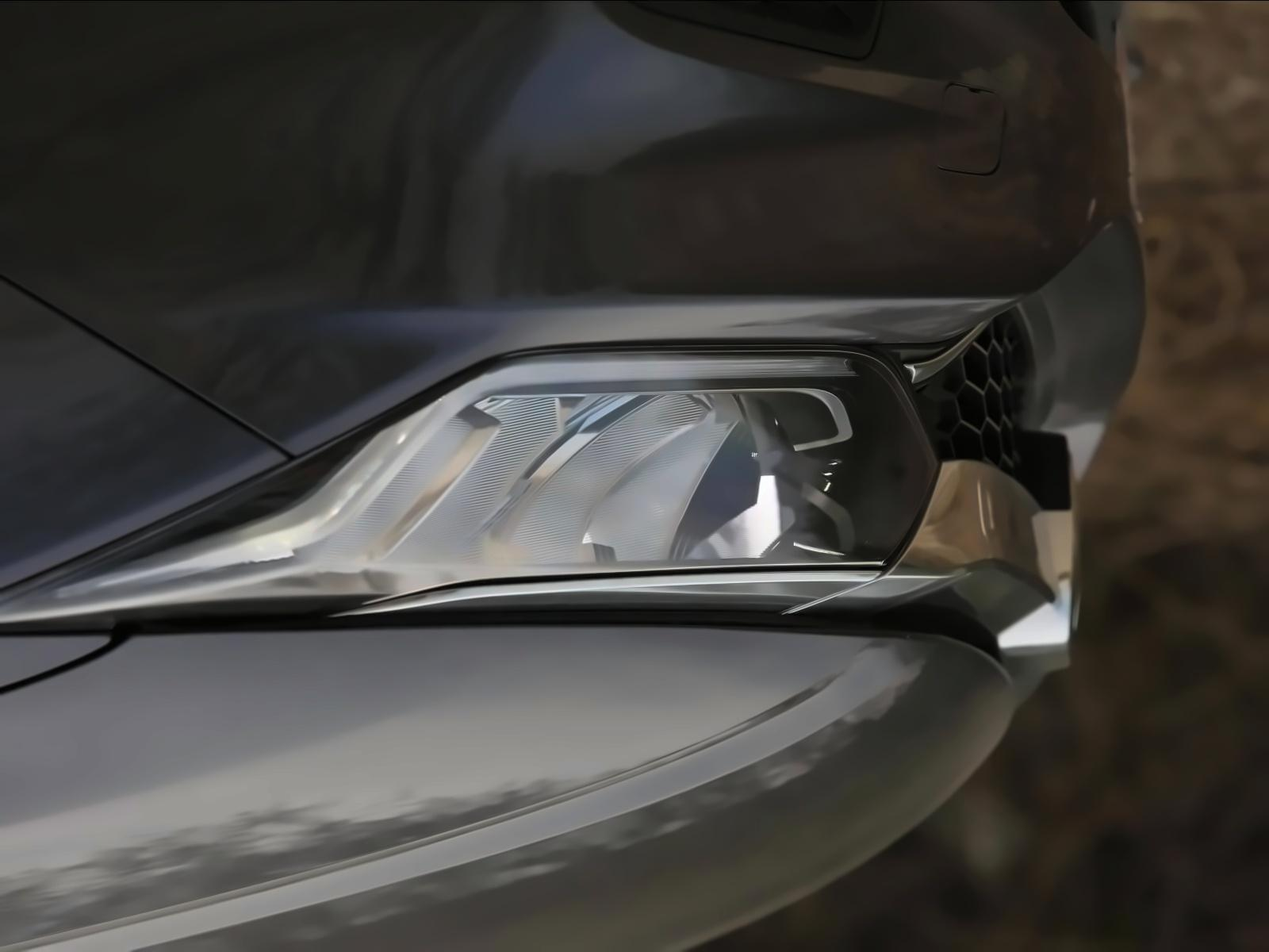Car hood: (0, 611, 1014, 952)
Front bumper: (2, 0, 1165, 469)
Headlight - -L-: (0, 332, 941, 638)
